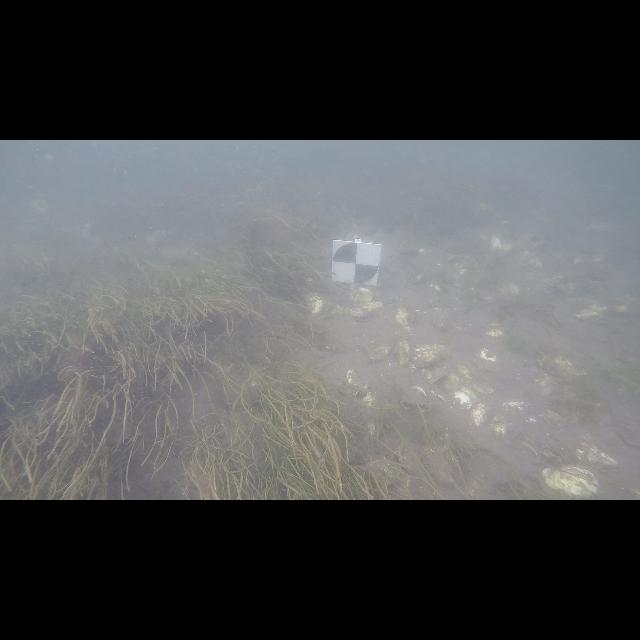Oyster-Closed: (541, 466, 599, 498), (491, 400, 529, 426), (411, 344, 449, 368), (440, 365, 472, 391), (343, 370, 371, 392), (346, 286, 374, 306), (454, 386, 476, 409), (394, 336, 411, 365), (478, 349, 498, 372), (305, 292, 324, 316), (394, 301, 411, 325), (490, 236, 511, 255), (362, 389, 380, 411), (471, 404, 488, 426), (368, 346, 390, 361)
Oyster-Open: (348, 299, 383, 325), (408, 383, 428, 403), (408, 310, 420, 326)
